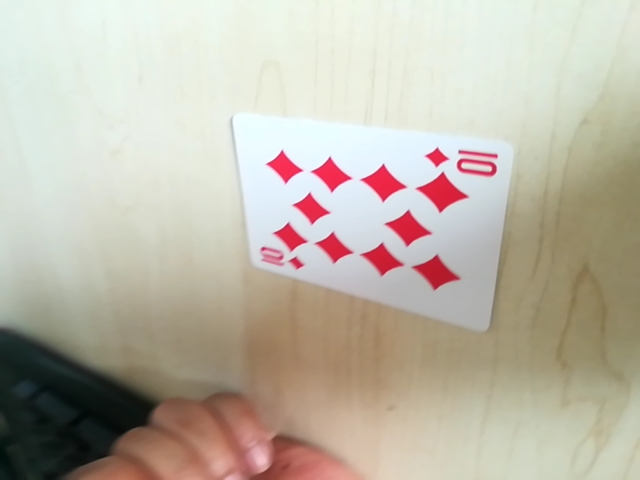fk 10: (423, 140, 503, 177), (255, 244, 310, 278)
